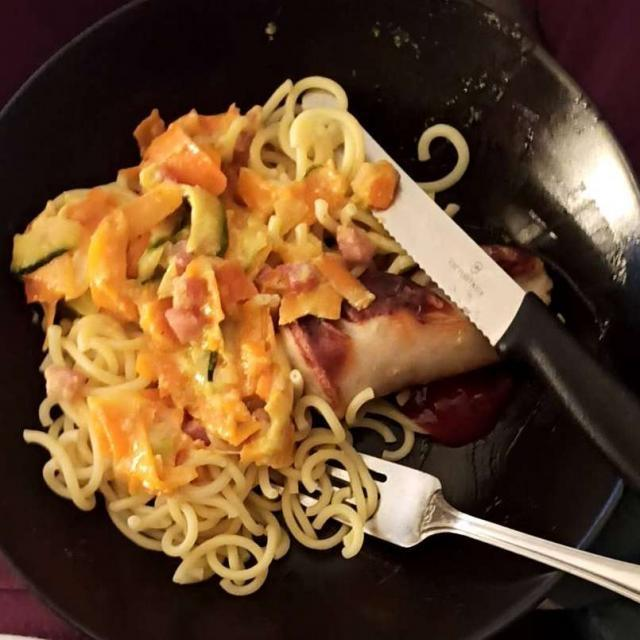mixed-vegetables: (30, 115, 394, 477)
sausage: (337, 243, 550, 392)
